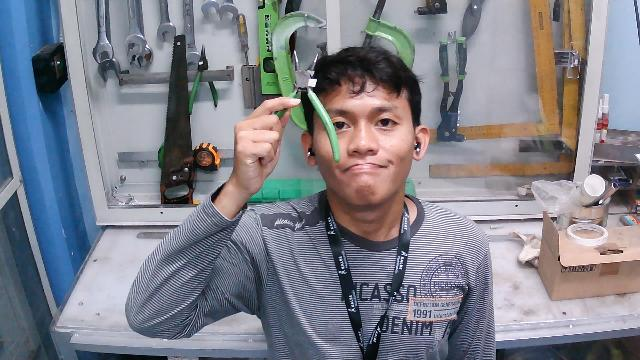tang_cucut_lancip_1: (247, 48, 348, 169)
